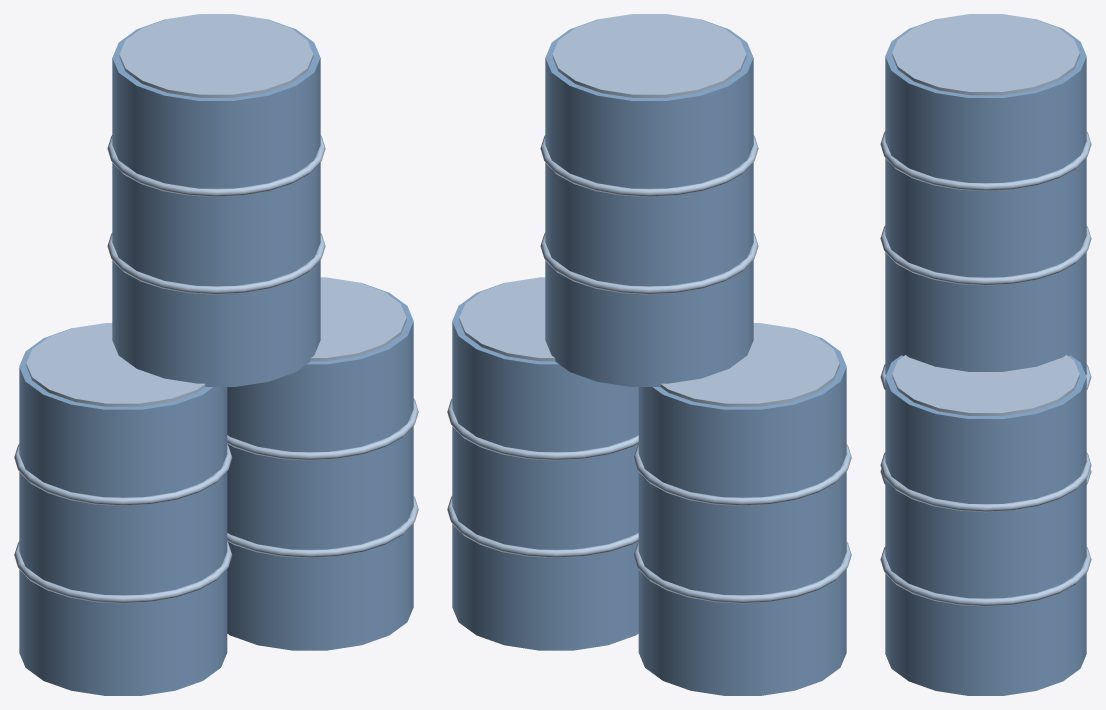
Rendered from prop.barrel-stack.glb.
3 renders of one model, left to right at view 1: azimuth 30°, elevation 25°; view 2: azimuth 150°, elevation 25°; view 3: azimuth 270°, elevation 25°, orthographic. The views are drawn at different scales.
Visible parts, largest first — view 1: prop.barrel-stack; view 2: prop.barrel-stack; view 3: prop.barrel-stack.
Boxes of the visible parts, x1=… form: prop.barrel-stack: x1=14, y1=14, x2=418, y2=695; prop.barrel-stack: x1=447, y1=14, x2=851, y2=695; prop.barrel-stack: x1=880, y1=14, x2=1091, y2=695.
Size of the model in its own units: 1.21 by 1.77 by 0.608.
